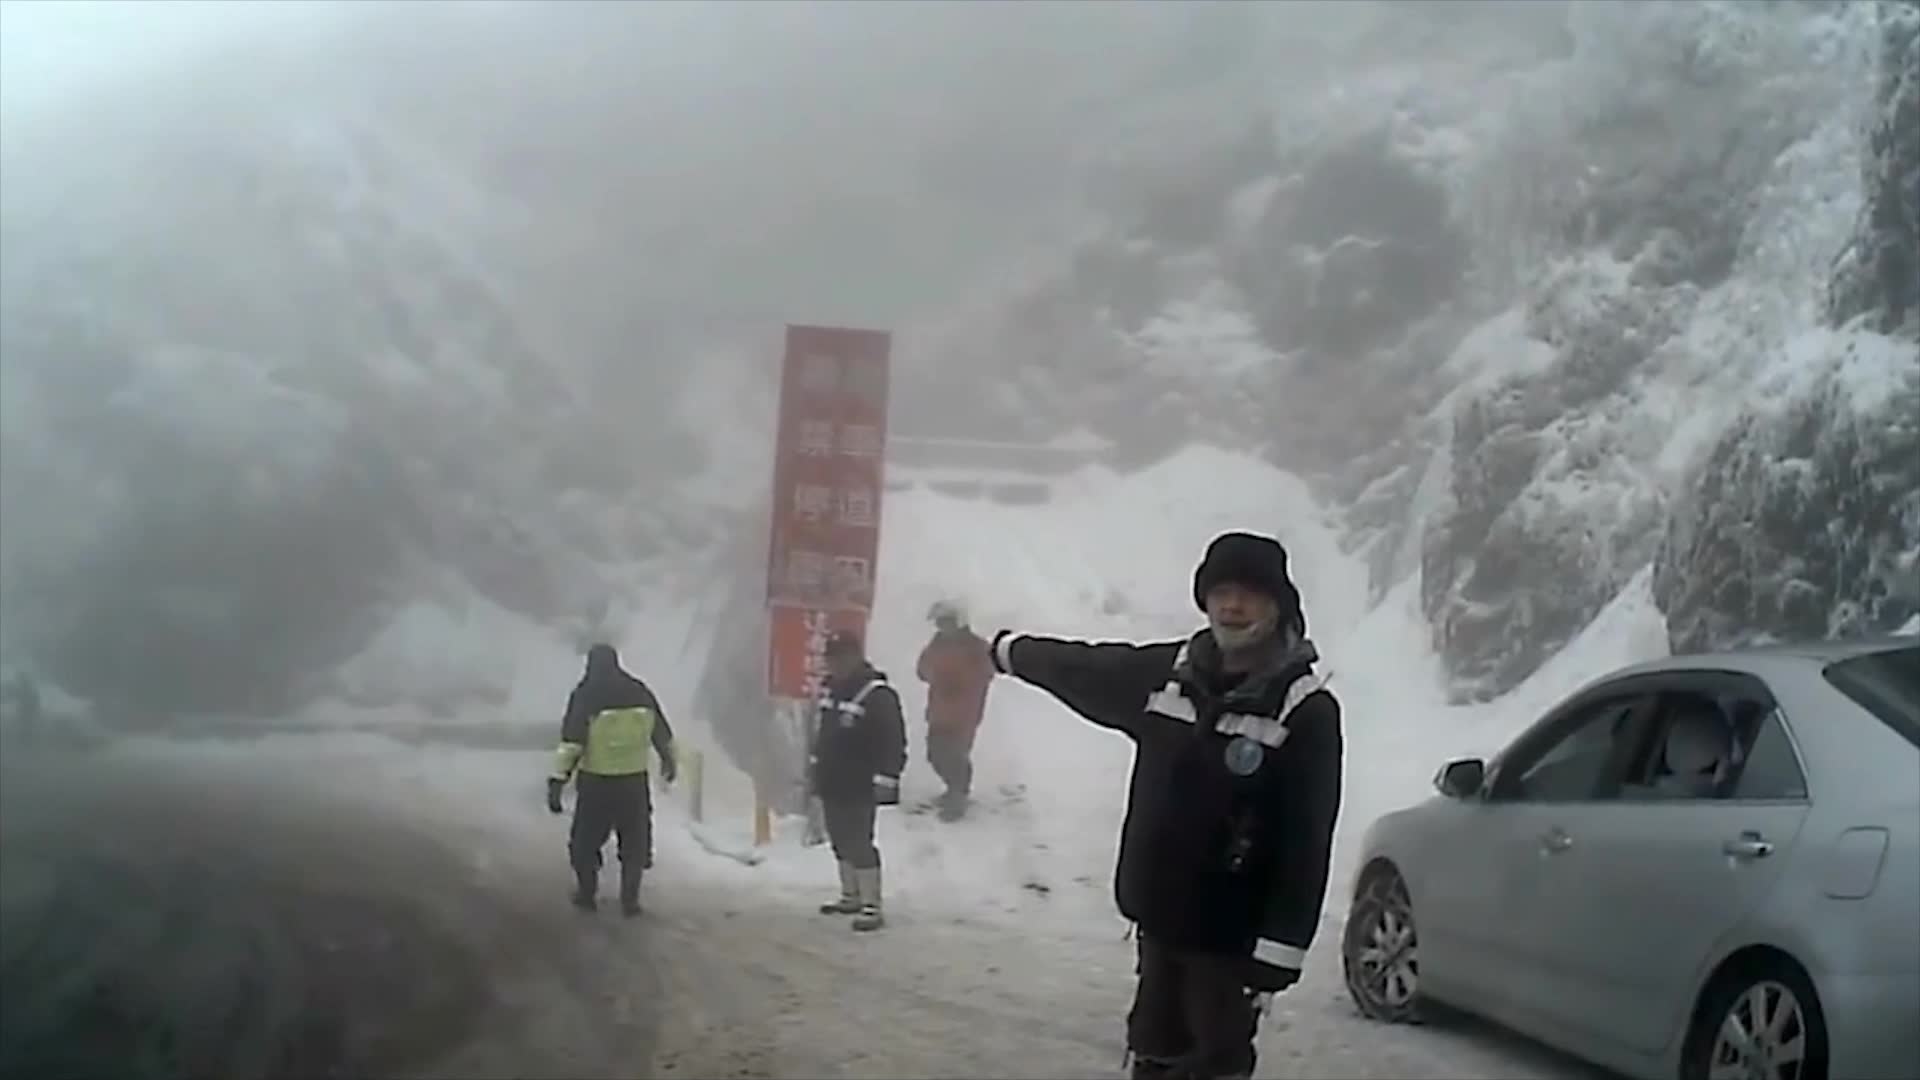pedestrian: (987, 529, 1345, 1080), (537, 649, 688, 917), (799, 629, 907, 934), (911, 598, 997, 822)
vehicle: (1335, 636, 1920, 1080)
